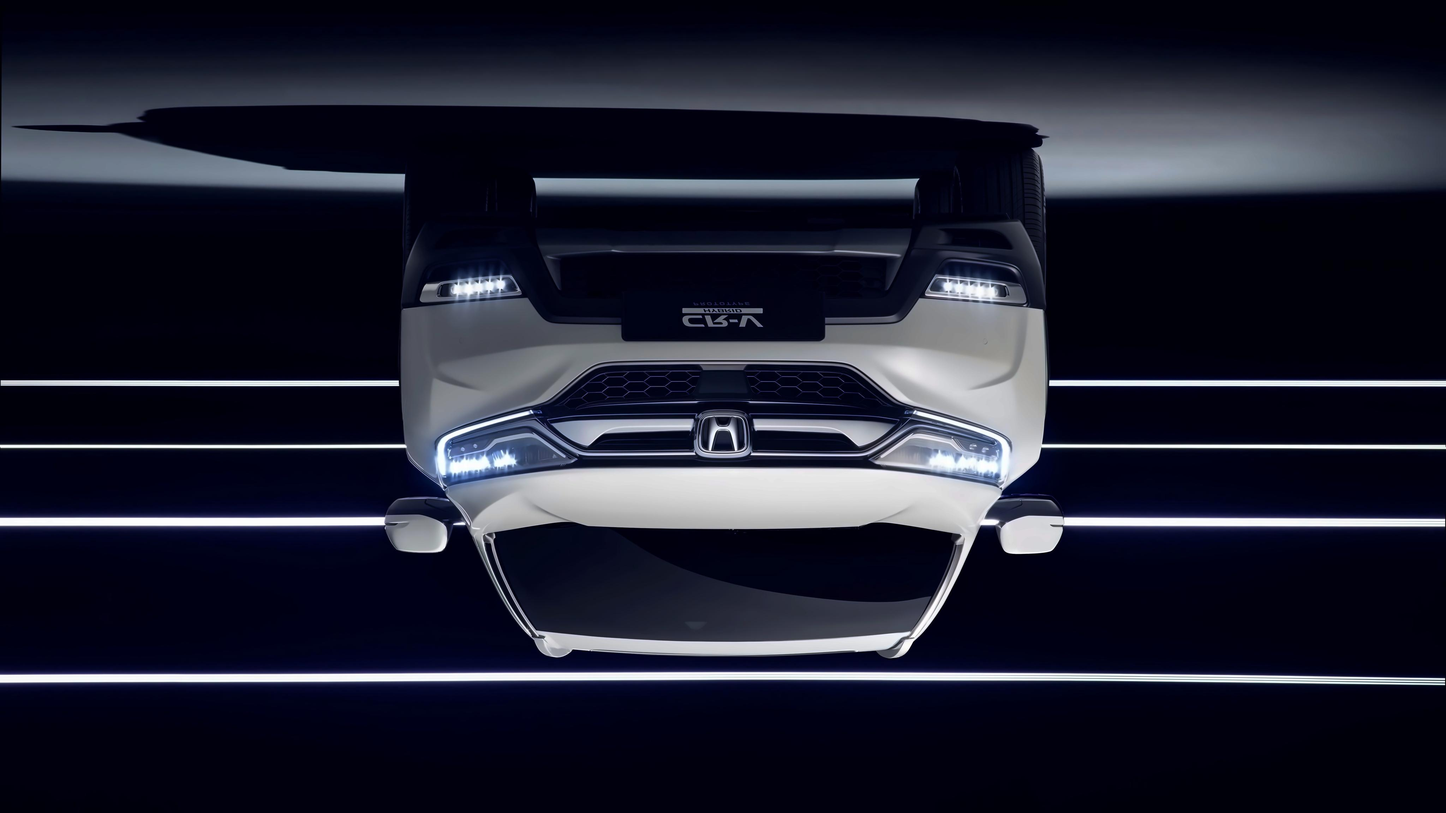Car hood: (441, 461, 1004, 551)
Front bumper: (384, 202, 1049, 340)
Headlight - -L-: (437, 412, 576, 491)
Headlight - -R-: (869, 422, 1010, 488)
Side mirror - -L-: (380, 489, 471, 554)
Side mirror - -R-: (980, 492, 1068, 560)
